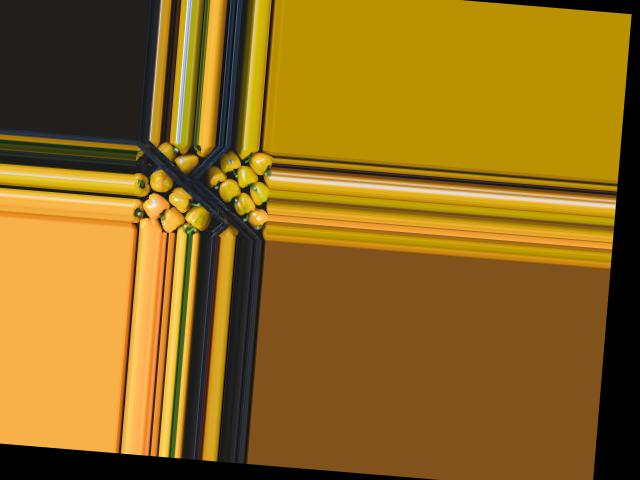bell_pepper: (244, 147, 272, 173)
